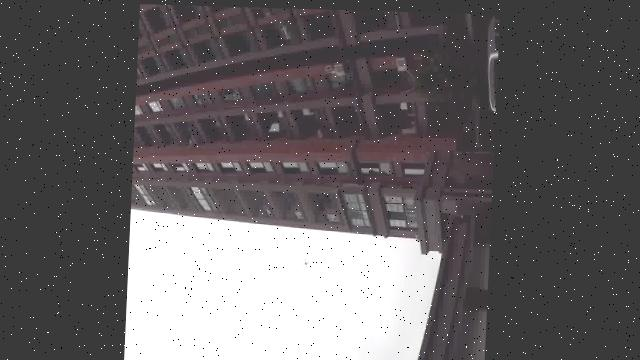drone: (303, 255, 313, 267)
